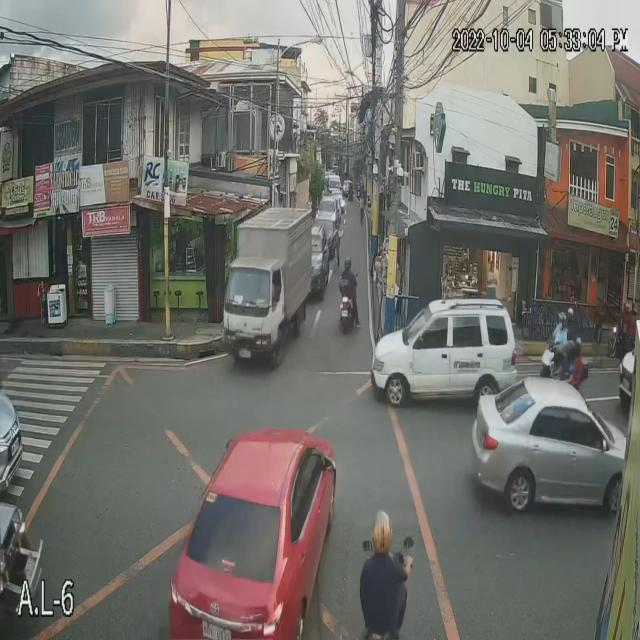half: (557, 309, 567, 334)
